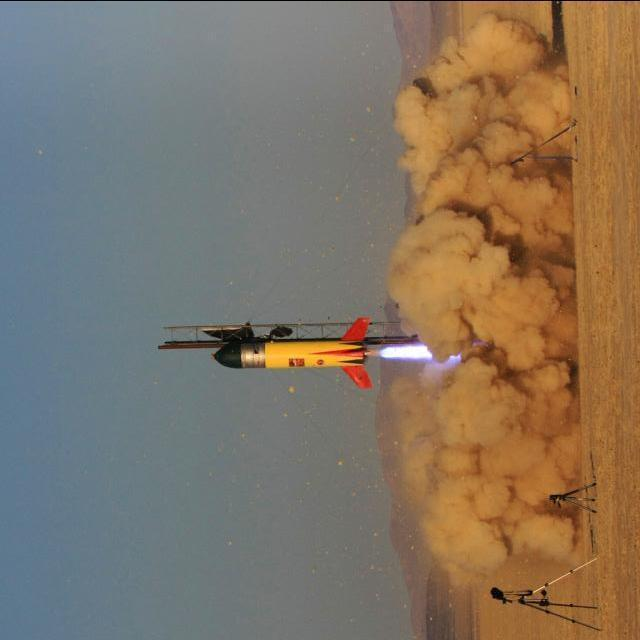missile: (213, 313, 377, 403)
